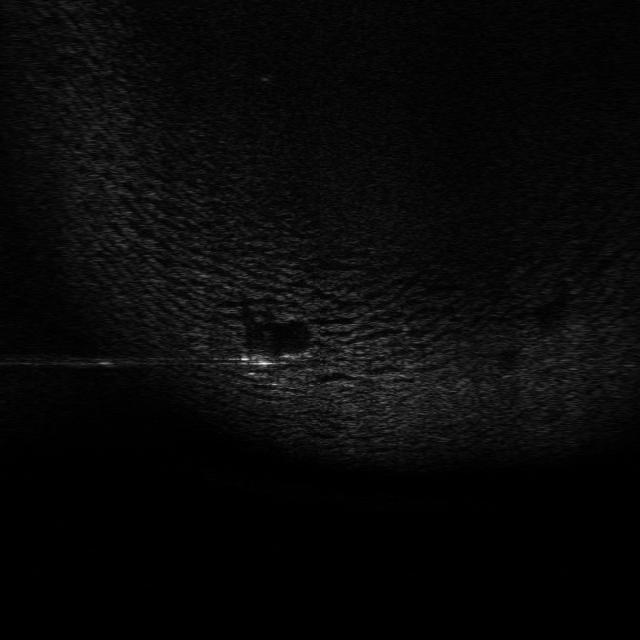plane: (236, 351, 314, 376)
